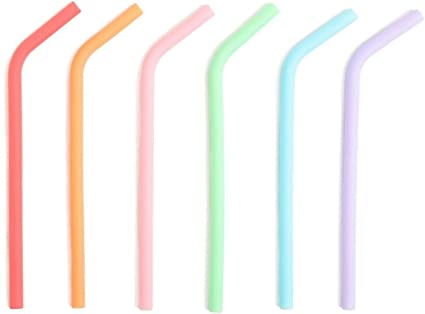Drinking Straw: (272, 7, 359, 312), (136, 3, 217, 314)
